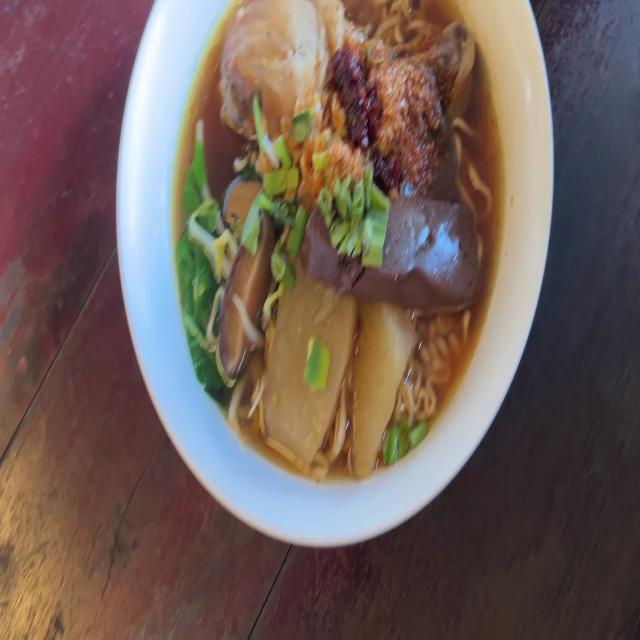boiled_chicken_blood_jelly: (309, 198, 472, 312), (426, 96, 454, 203)
chicken_drumstick: (225, 0, 476, 134)
daikon_radish: (267, 289, 410, 458)
noodle: (190, 8, 470, 420)
